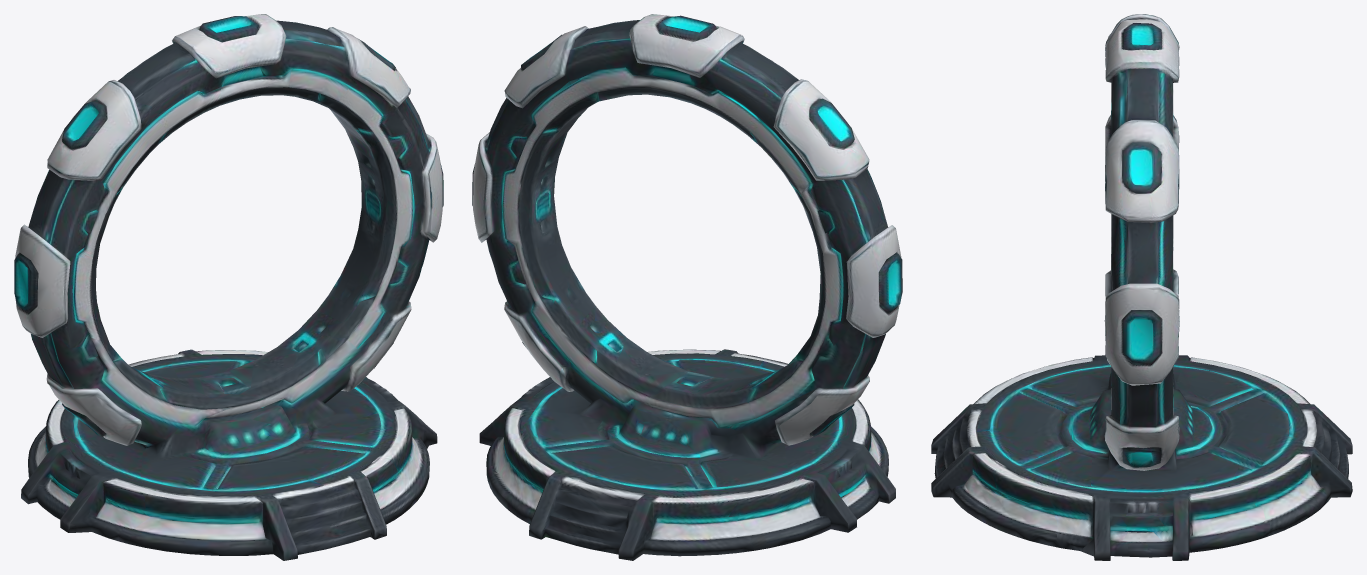
The model's file is gate.glb.
The picture shows the model from 3 angles, left to right: view 1: azimuth 30°, elevation 25°; view 2: azimuth 150°, elevation 25°; view 3: azimuth 270°, elevation 25°; orthographic projection. The views are drawn at different scales.
Visible parts, largest first — view 1: tripo_node_73072fe1-369e-4dc3-aebb-e2ed20ff01c2; view 2: tripo_node_73072fe1-369e-4dc3-aebb-e2ed20ff01c2; view 3: tripo_node_73072fe1-369e-4dc3-aebb-e2ed20ff01c2.
Boxes of the visible parts, box(x1,y1,x2,y2) form: tripo_node_73072fe1-369e-4dc3-aebb-e2ed20ff01c2: box(14, 14, 443, 560); tripo_node_73072fe1-369e-4dc3-aebb-e2ed20ff01c2: box(472, 14, 902, 560); tripo_node_73072fe1-369e-4dc3-aebb-e2ed20ff01c2: box(931, 14, 1352, 560).
Bounding box in the file's own units: 0.9528 × 0.9775 × 0.8521.
Materials: 1 (1 with a texture image).
